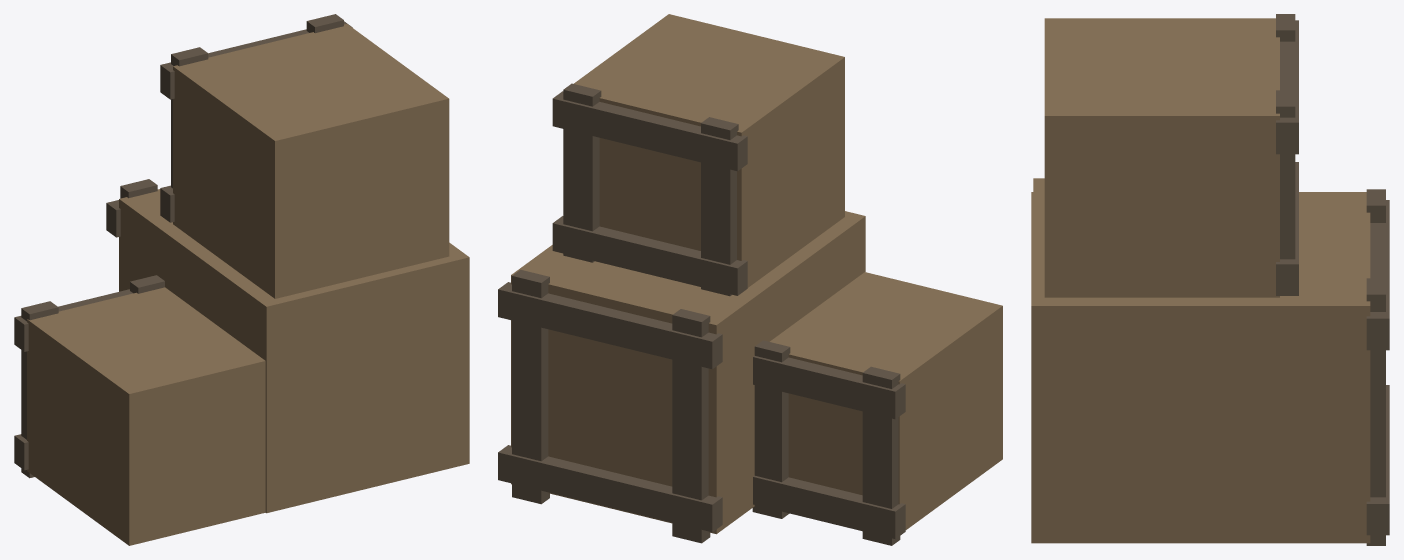
The model's file is Dungeon_CrateStack.fbx.
3 views of the same model, side by side, from view 1: azimuth 30°, elevation 25°; view 2: azimuth 150°, elevation 25°; view 3: azimuth 270°, elevation 25° (orthographic). The views are drawn at different scales.
Visible parts, largest first — view 1: Dungeon_CrateStack; view 2: Dungeon_CrateStack; view 3: Dungeon_CrateStack.
Part boxes in pixels (left/top/right/bottom): Dungeon_CrateStack: left=14, top=14, right=469, bottom=545; Dungeon_CrateStack: left=498, top=14, right=1002, bottom=545; Dungeon_CrateStack: left=1031, top=14, right=1389, bottom=545.
Size of the model in its own units: 1.2 by 1.24 by 0.93.
